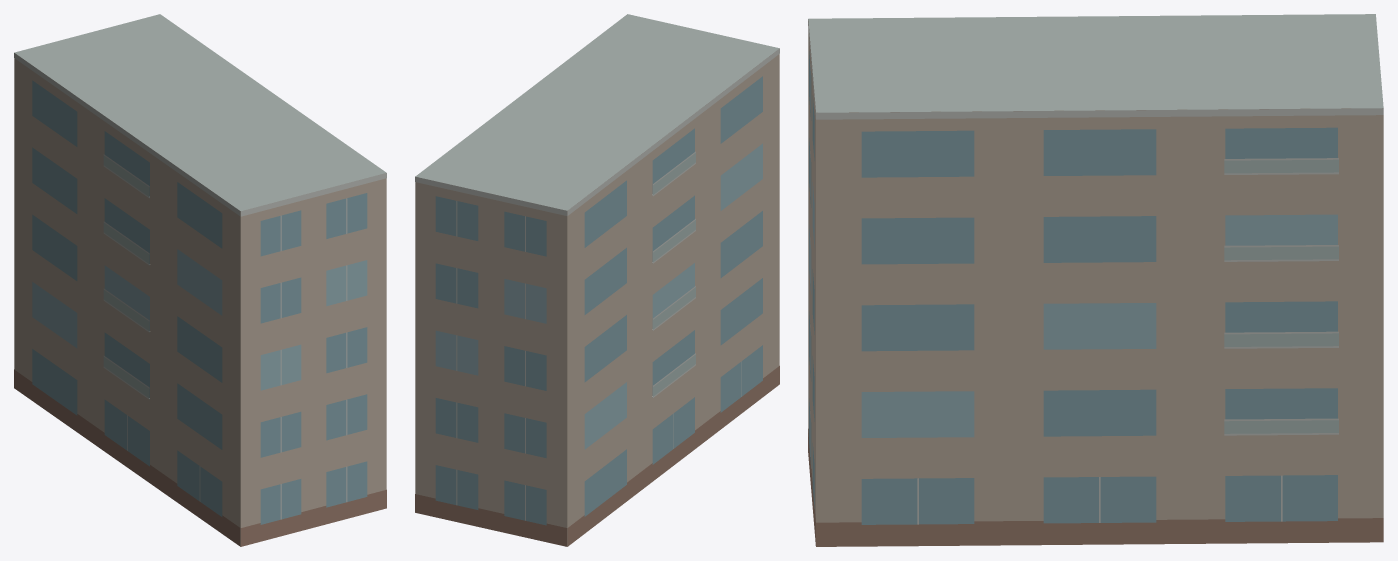
File: survey-upis-32952978.glb
3 renders of one model, left to right at view 1: azimuth 30°, elevation 25°; view 2: azimuth 150°, elevation 25°; view 3: azimuth 270°, elevation 25°, orthographic. The views are drawn at different scales.
Parts seen in each view (by area): view 1: survey-upis-32952978.tmp; view 2: survey-upis-32952978.tmp; view 3: survey-upis-32952978.tmp.
Part boxes in pixels (x1,y1,x2,y2): survey-upis-32952978.tmp: [14, 14, 386, 546]; survey-upis-32952978.tmp: [415, 14, 779, 546]; survey-upis-32952978.tmp: [808, 14, 1383, 546].
Size of the model in its own units: 7.41 by 15.18 by 18.24.
